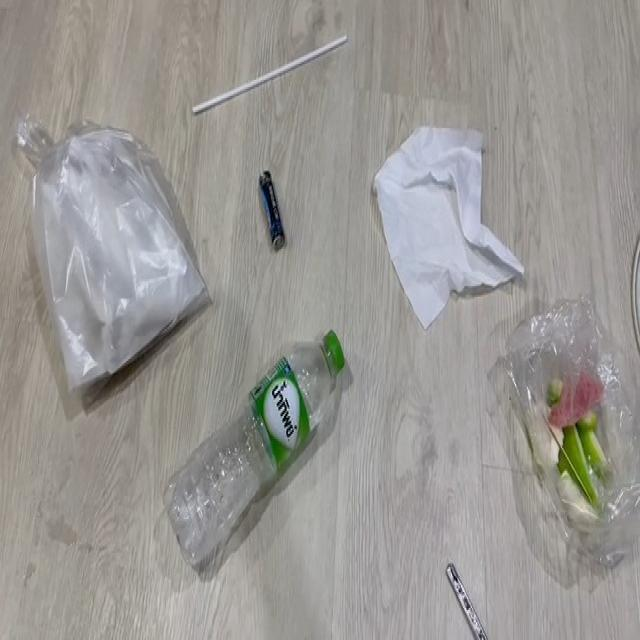Anorganik: (36, 112, 205, 368), (186, 350, 384, 550), (374, 103, 512, 327), (198, 40, 359, 104), (448, 546, 510, 640)
B3: (511, 315, 640, 555), (258, 154, 292, 259)
